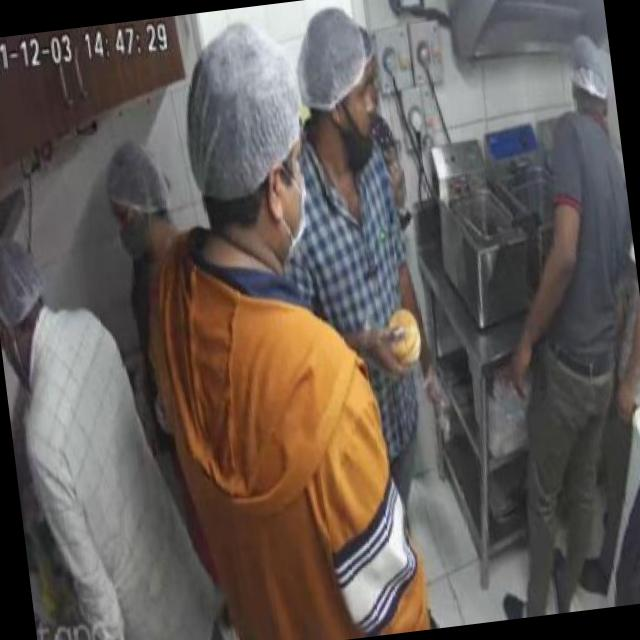hairnet: (178, 19, 314, 202), (290, 8, 374, 114), (100, 147, 170, 226), (0, 231, 46, 322), (572, 36, 609, 96)
